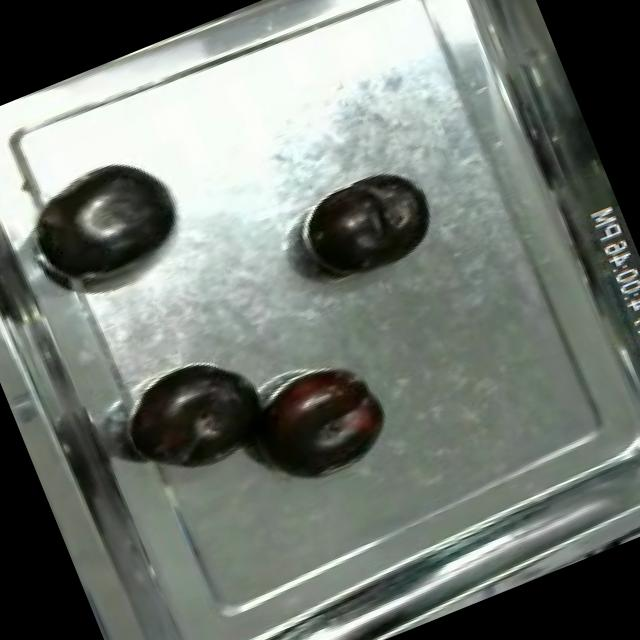Fruit: (15, 143, 196, 302), (234, 347, 406, 500), (112, 343, 279, 490), (290, 156, 448, 294)
